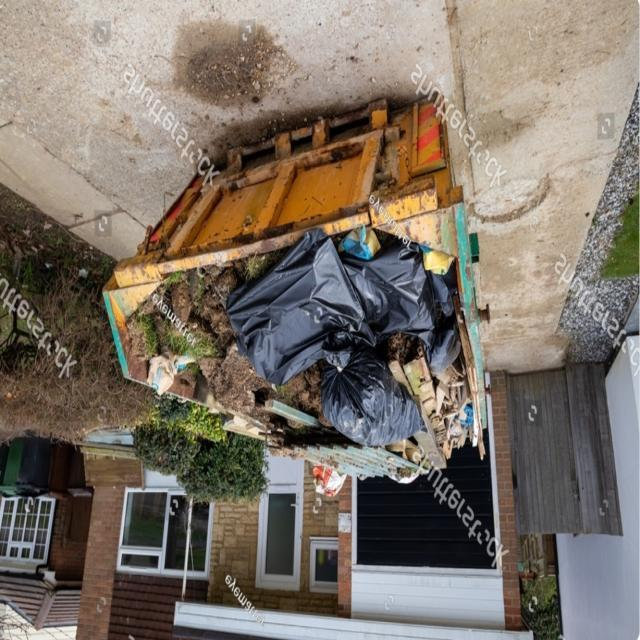Garbage: (127, 227, 480, 496)
Plastic_Bag: (226, 231, 374, 385), (321, 332, 424, 447), (341, 240, 436, 348), (425, 315, 461, 374), (429, 262, 458, 316), (339, 226, 381, 260), (313, 466, 346, 498), (422, 250, 454, 275)
